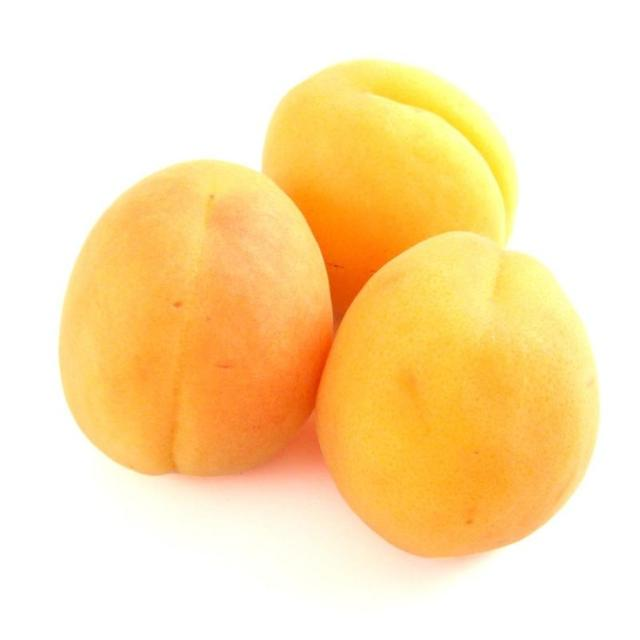kayisi: (311, 231, 602, 561), (56, 159, 337, 480), (258, 58, 520, 326)
